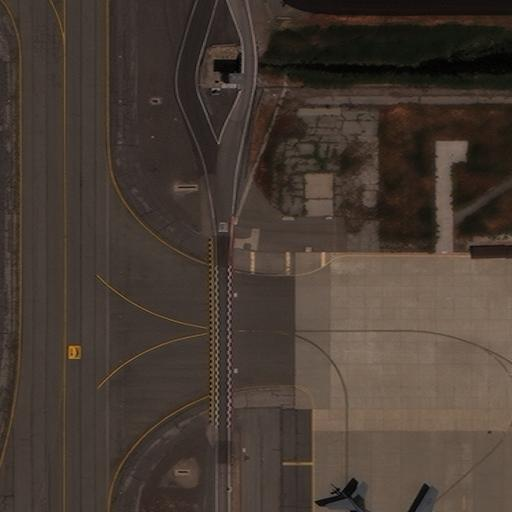Military Transport: (331, 487, 439, 511)
